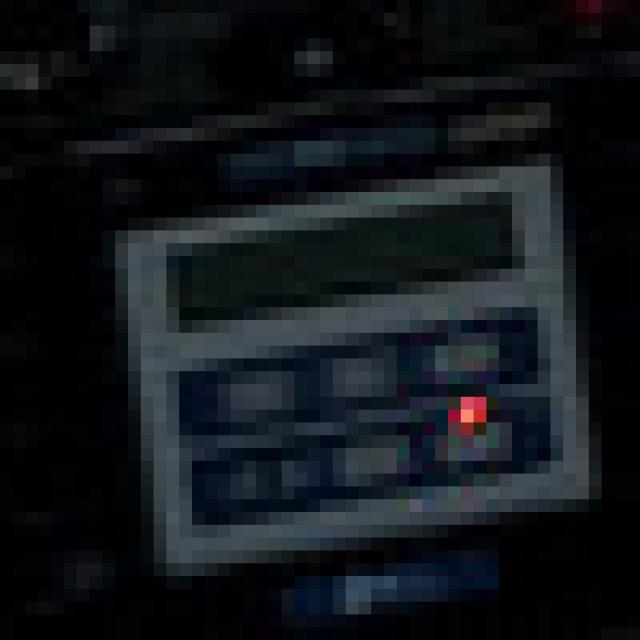no_fire: (37, 27, 640, 604)
